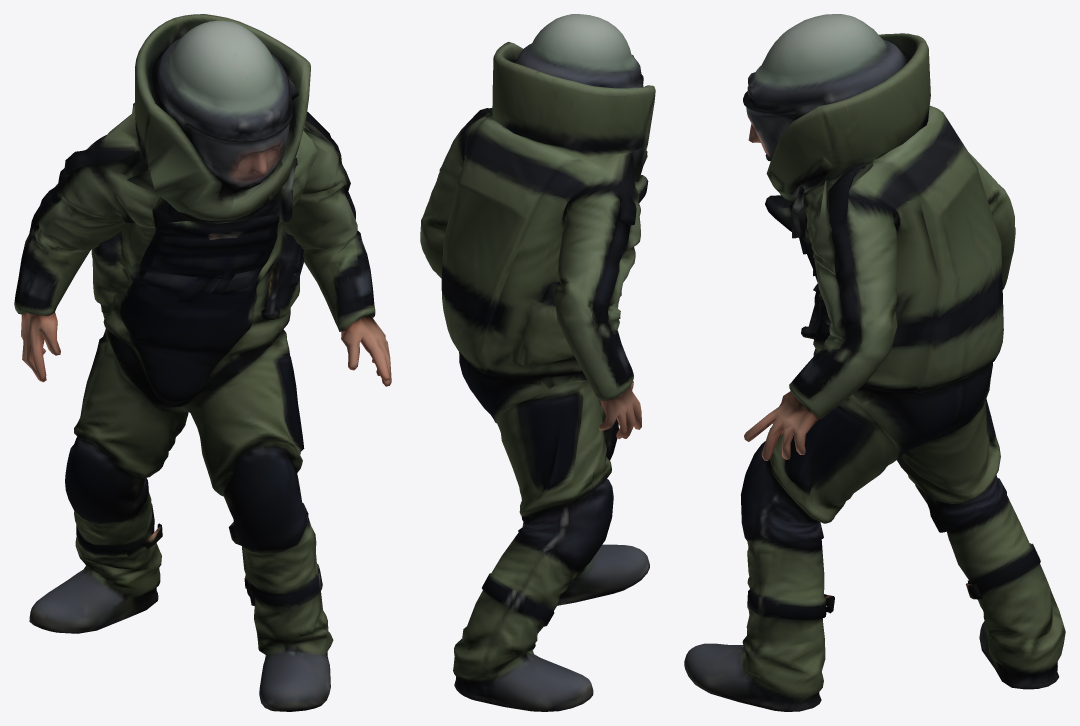
The model's file is jinbom_idle.glb.
3 renders of one model, left to right at view 1: azimuth 30°, elevation 25°; view 2: azimuth 150°, elevation 25°; view 3: azimuth 270°, elevation 25°, orthographic. The views are drawn at different scales.
Visible parts, largest first — view 1: tripo_node_659e1e9f; view 2: tripo_node_659e1e9f; view 3: tripo_node_659e1e9f.
Part boxes in pixels (left/top/right/bottom): tripo_node_659e1e9f: left=14, top=14, right=391, bottom=711; tripo_node_659e1e9f: left=420, top=14, right=655, bottom=711; tripo_node_659e1e9f: left=684, top=14, right=1065, bottom=711.
Size of the model in its own units: 43.08 by 94.85 by 49.6.
1 material, 1 textured.
